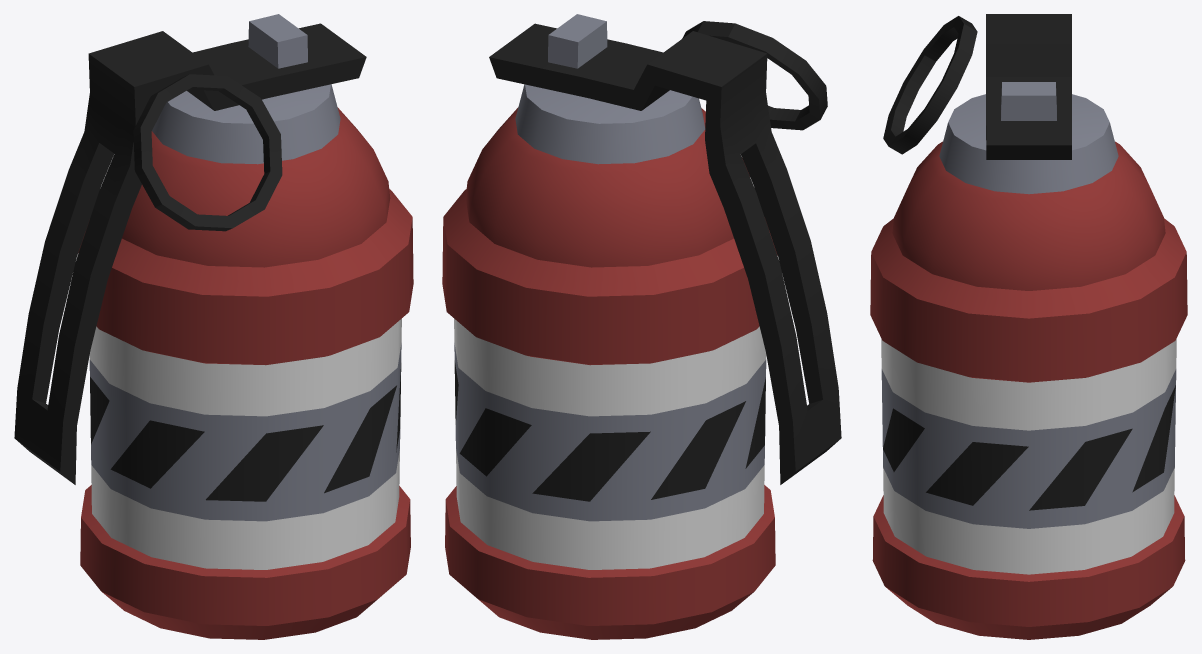
Rendered from Fire Grenade.glb.
3 renders of one model, left to right at view 1: azimuth 30°, elevation 25°; view 2: azimuth 150°, elevation 25°; view 3: azimuth 270°, elevation 25°, orthographic. The views are drawn at different scales.
Parts seen in each view (by area): view 1: Fire Grenade; view 2: Fire Grenade; view 3: Fire Grenade.
Part boxes in pixels (box(x1,y1,x2,y2)): Fire Grenade: box(14, 14, 413, 639); Fire Grenade: box(442, 14, 841, 639); Fire Grenade: box(870, 14, 1187, 639).
Size of the model in its own units: 0.2005 by 0.2992 by 0.1657.
